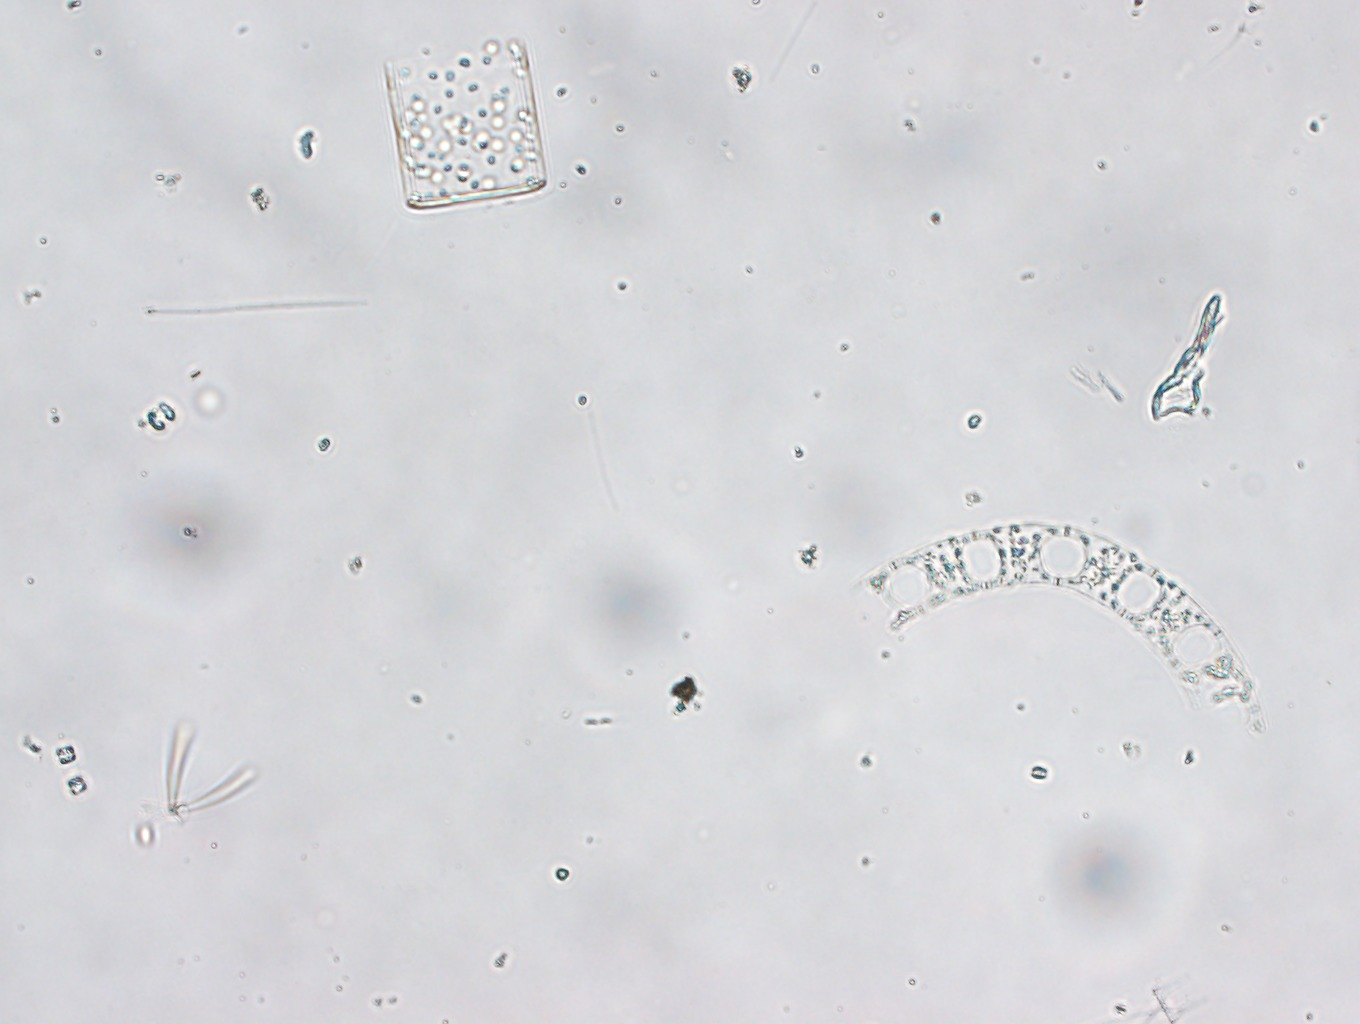eucampia: (851, 520, 1259, 725)
guinardia flaccida: (381, 39, 549, 209)
